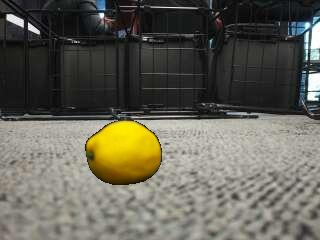lemon: (85, 120, 162, 186)
